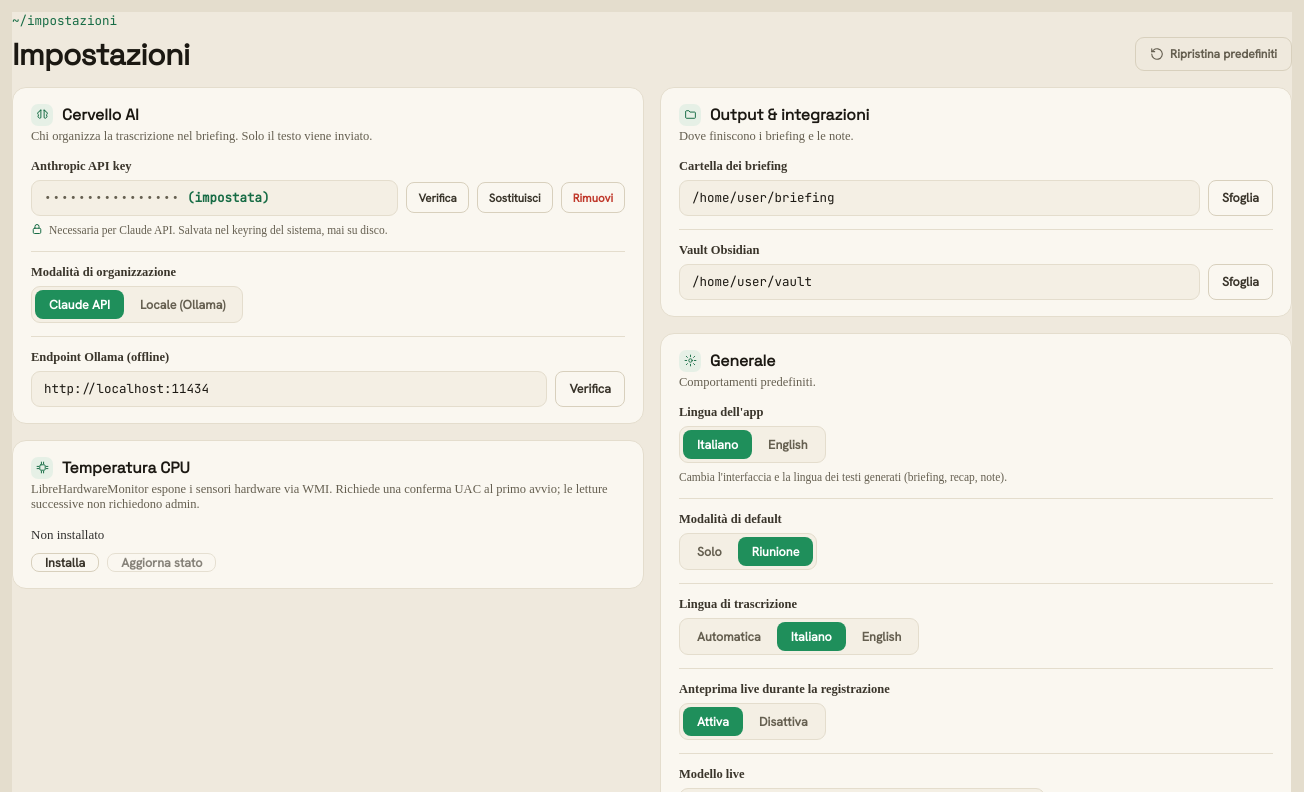
Test case: ScreenSettings — verifica/rimuovi chiave API (SET1/SET2) › SET1: 'Verifica' chiama verifyApiKey e mostra l'esito valido
Expected: the button "Sostituisci" is shown, [477,182,553,213]
Click the button "Verifica" next to "(impostata)": {"x": 438, "y": 198} [406,182,469,213]
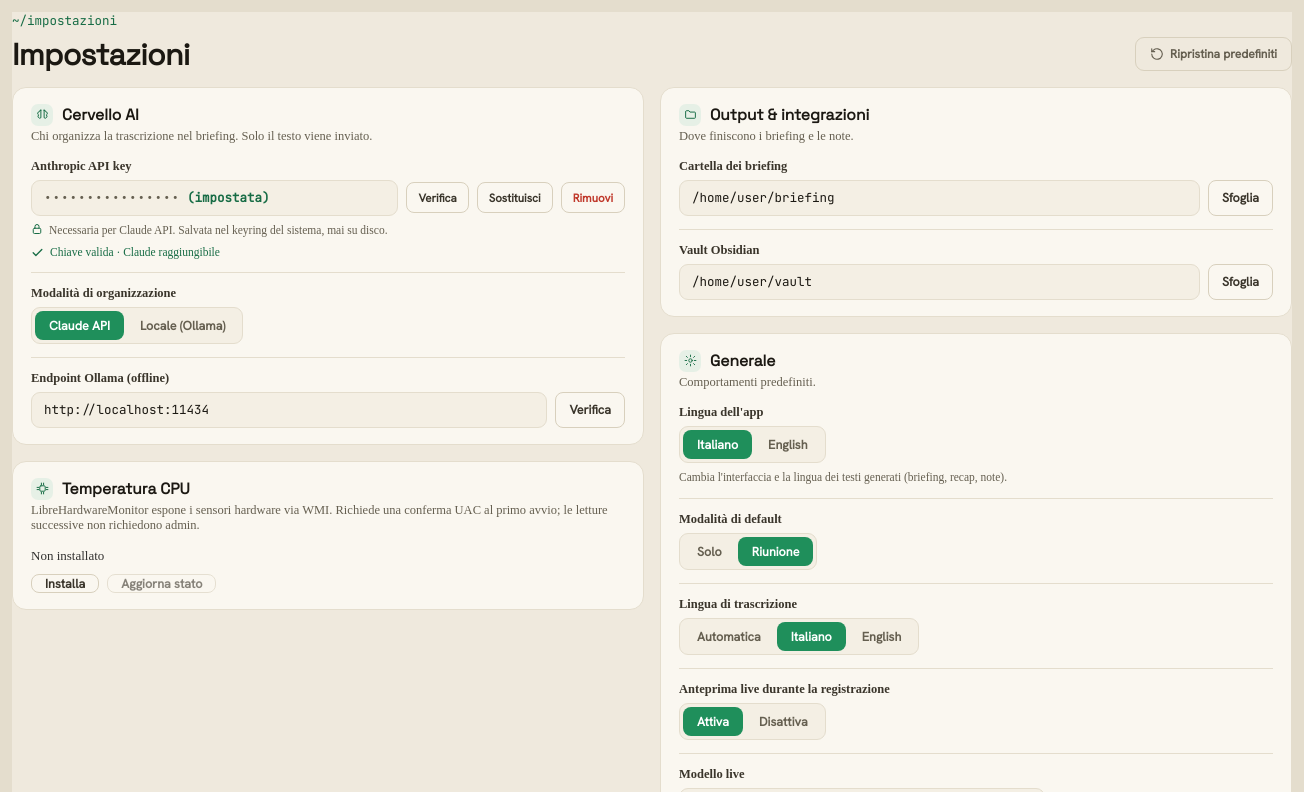
Expected: the text "Chiave valida · Claude raggiungibile" is shown, [31,246,220,259]
